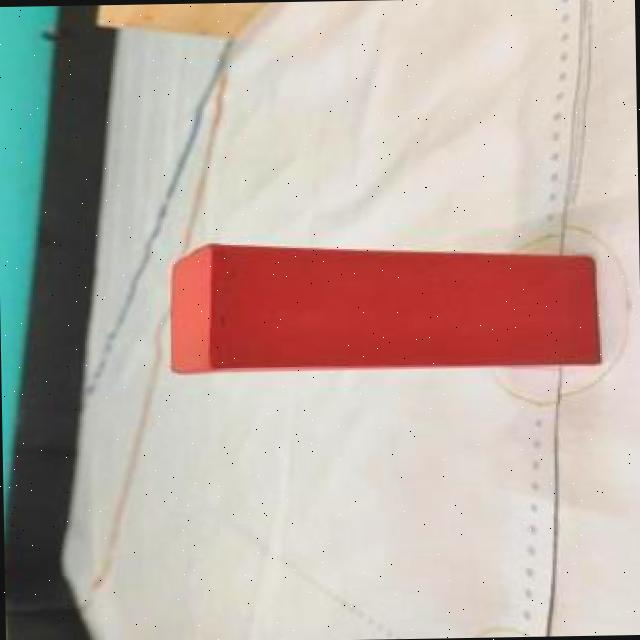redbox: (163, 232, 602, 374)
